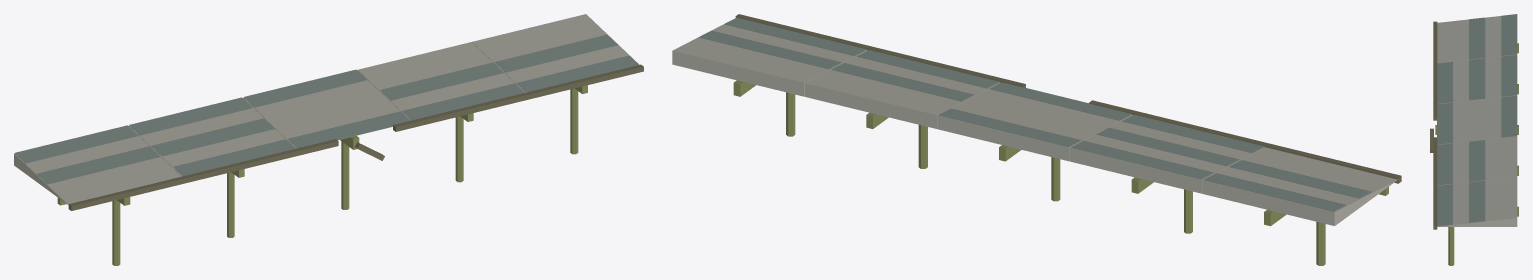
The model's file is SM_marquesina_v5_LOD1.fbx.
3 views of the same model, side by side, from view 1: azimuth 30°, elevation 25°; view 2: azimuth 150°, elevation 25°; view 3: azimuth 270°, elevation 25° (orthographic). The views are drawn at different scales.
Parts seen in each view (by area): view 1: SM_bloques.marquesina_v5_LOD1; view 2: SM_bloques.marquesina_v5_LOD1; view 3: SM_bloques.marquesina_v5_LOD1.
Boxes of the visible parts, bbox=[...] form: SM_bloques.marquesina_v5_LOD1: bbox=[14, 14, 643, 265]; SM_bloques.marquesina_v5_LOD1: bbox=[672, 14, 1401, 265]; SM_bloques.marquesina_v5_LOD1: bbox=[1430, 14, 1518, 265].
Size of the model in its own units: 30 by 4.63 by 5.52.
